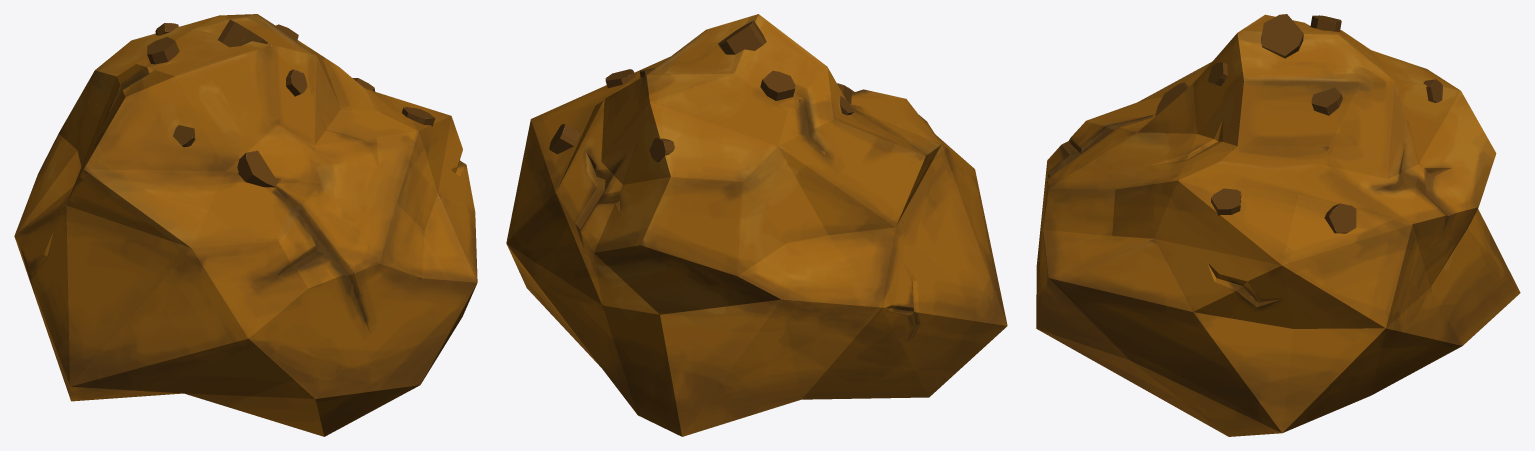
The model's file is CookieRock.fbx.
3 views of the same model, side by side, from view 1: azimuth 30°, elevation 25°; view 2: azimuth 150°, elevation 25°; view 3: azimuth 270°, elevation 25° (orthographic). The views are drawn at different scales.
Parts seen in each view (by area): view 1: Cookie, Chunks; view 2: Cookie, Chunks; view 3: Cookie, Chunks.
Boxes of the visible parts, x1,y1,x2,y2 form: Cookie: (14,14,477,436); Chunks: (147,19,435,187); Cookie: (506,14,1007,436); Chunks: (549,20,854,162); Cookie: (1036,14,1520,436); Chunks: (1155,14,1442,233).
Size of the model in its own units: 137 by 109 by 135.
2 materials, 2 textured.
